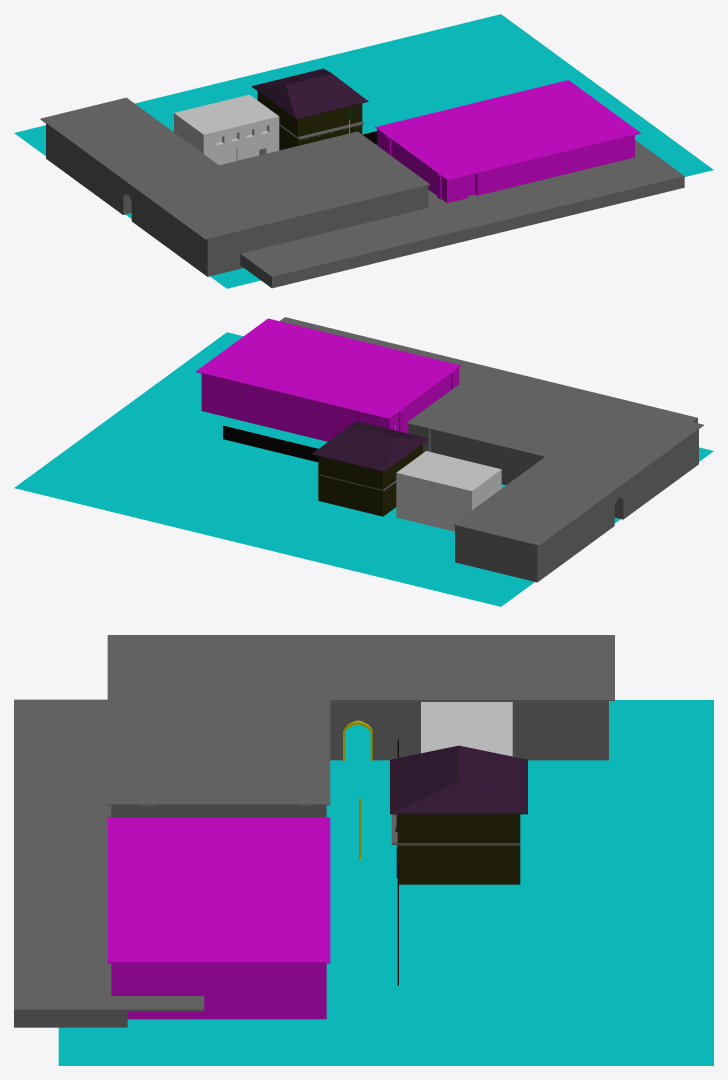
File: House3.dae
The picture shows the model from 3 angles, top to bottom: view 1: azimuth 30°, elevation 25°; view 2: azimuth 150°, elevation 25°; view 3: azimuth 270°, elevation 25°; orthographic projection. The views are drawn at different scales.
Parts seen in each view (by area): view 1: Wall_2, Ground1, Wall_1, Step, House1, House2; view 2: Ground1, Wall_2, Wall_1, House1, House2, Step, Wall_Wood1; view 3: Ground1, Wall_2, Wall_1, Step, House1, House2.
Boxes of the visible parts, x1,y1,x2,y2 form: Wall_2: [40, 97, 430, 276]; Ground1: [14, 14, 713, 288]; Wall_1: [375, 80, 640, 202]; Step: [240, 140, 684, 288]; House1: [251, 68, 368, 150]; House2: [174, 94, 279, 165]; Ground1: [14, 332, 713, 606]; Wall_2: [406, 370, 703, 582]; Wall_1: [195, 318, 460, 441]; House1: [312, 421, 428, 516]; House2: [396, 451, 501, 531]; Step: [280, 317, 697, 423]; Wall_Wood1: [223, 425, 318, 462]; Ground1: [58, 700, 713, 1065]; Wall_2: [107, 635, 614, 817]; Wall_1: [107, 817, 330, 1019]; Step: [14, 699, 204, 1027]; House1: [390, 745, 527, 884]; House2: [421, 702, 512, 756].
Bounding box in the file's own units: 288 × 39.29 × 230.
